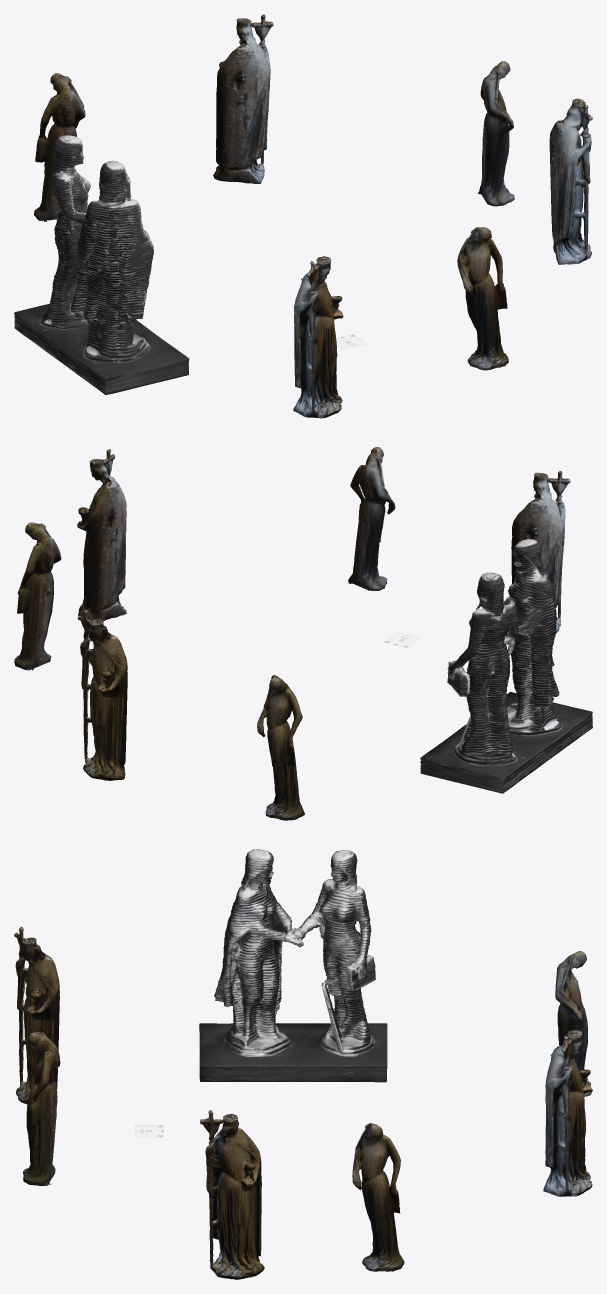
Rendered from project17.glb.
The picture shows the model from 3 angles, top to bottom: view 1: azimuth 30°, elevation 25°; view 2: azimuth 150°, elevation 25°; view 3: azimuth 270°, elevation 25°; orthographic projection. The views are drawn at different scales.
Parts seen in each view (by area): view 1: Kapczár Botond/Söllei Virág/Zsidró Zsolt; view 2: Kapczár Botond/Söllei Virág/Zsidró Zsolt; view 3: Kapczár Botond/Söllei Virág/Zsidró Zsolt.
Part boxes in pixels (<box>): Kapczár Botond/Söllei Virág/Zsidró Zsolt: <box>14,14,592,418</box>; Kapczár Botond/Söllei Virág/Zsidró Zsolt: <box>14,447,592,820</box>; Kapczár Botond/Söllei Virág/Zsidró Zsolt: <box>14,849,592,1279</box>.
Bounding box in the file's own units: 10.44 × 4 × 10.15.
8 materials, 8 textured.
